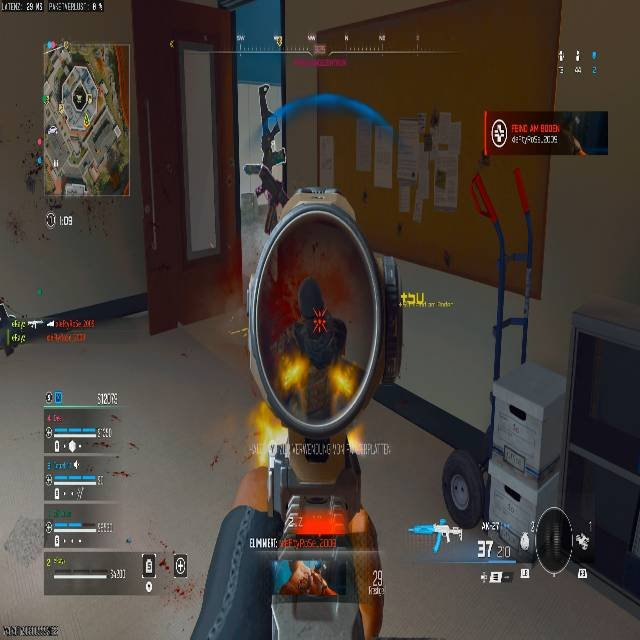head: (299, 282, 326, 324)
player: (255, 128, 286, 235)
